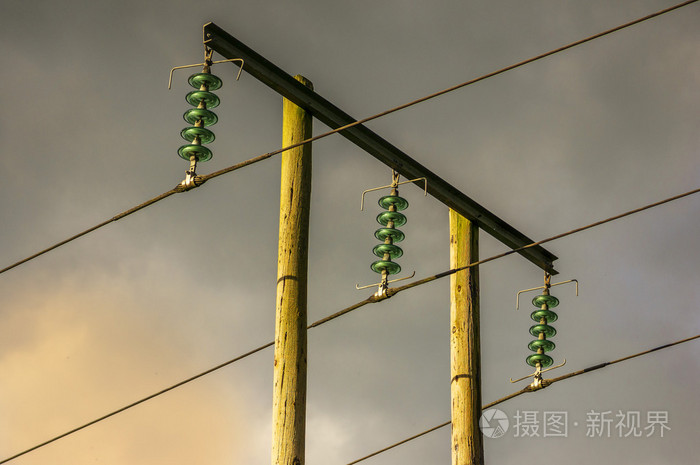insulator: (179, 72, 222, 162), (372, 193, 410, 277), (528, 295, 559, 369)
